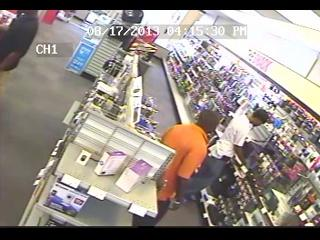Normal: (178, 108, 268, 206), (157, 122, 210, 210), (0, 11, 40, 74)
